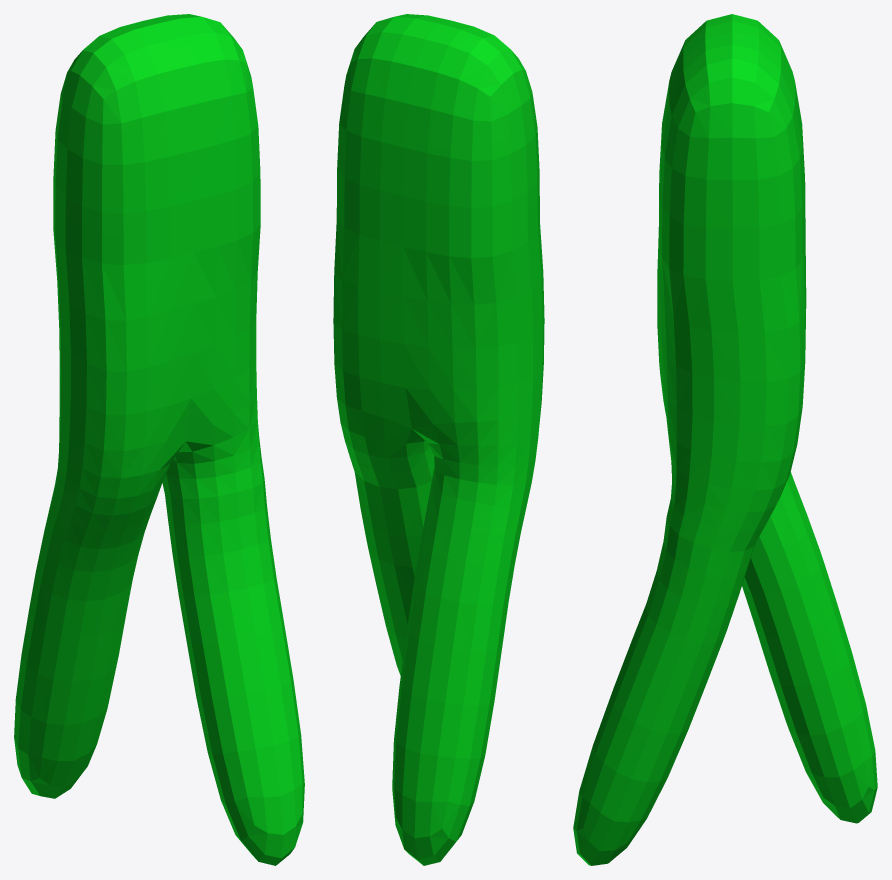
File: bend3.obj
The picture shows the model from 3 angles, left to right: view 1: azimuth 30°, elevation 25°; view 2: azimuth 150°, elevation 25°; view 3: azimuth 270°, elevation 25°; orthographic projection. The views are drawn at different scales.
Visible parts, largest first — view 1: Cube; view 2: Cube; view 3: Cube.
Boxes of the visible parts, left/top/right/bottom form: Cube: left=14, top=14, right=304, bottom=865; Cube: left=333, top=14, right=544, bottom=865; Cube: left=573, top=14, right=877, bottom=865.
Size of the model in its own units: 0.929 by 3.91 by 1.32.
